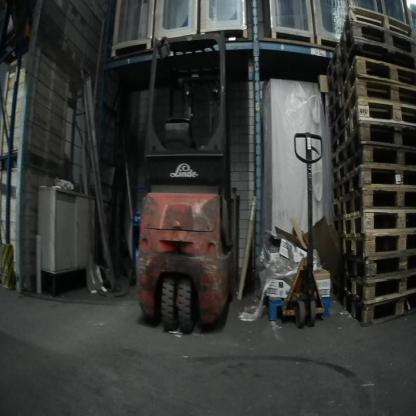forklift: (135, 29, 235, 336)
pallet: (341, 55, 416, 106), (341, 38, 416, 87), (344, 79, 416, 126), (338, 6, 416, 46), (344, 287, 416, 327), (345, 100, 416, 140), (345, 121, 416, 159), (340, 24, 416, 59), (343, 143, 416, 179), (342, 165, 416, 197), (345, 273, 416, 304), (342, 186, 415, 216), (343, 253, 416, 282), (342, 209, 416, 237), (0, 146, 64, 176), (343, 232, 416, 258), (268, 295, 332, 323), (61, 40, 86, 70), (39, 15, 63, 45), (68, 1, 90, 31), (331, 126, 348, 155), (328, 46, 341, 79), (330, 109, 344, 139), (329, 80, 342, 110), (329, 61, 342, 91), (329, 99, 343, 126), (330, 147, 345, 171), (331, 164, 346, 182), (331, 180, 342, 202), (332, 199, 343, 217), (333, 216, 343, 235)
pallet_truck: (280, 131, 325, 329)
